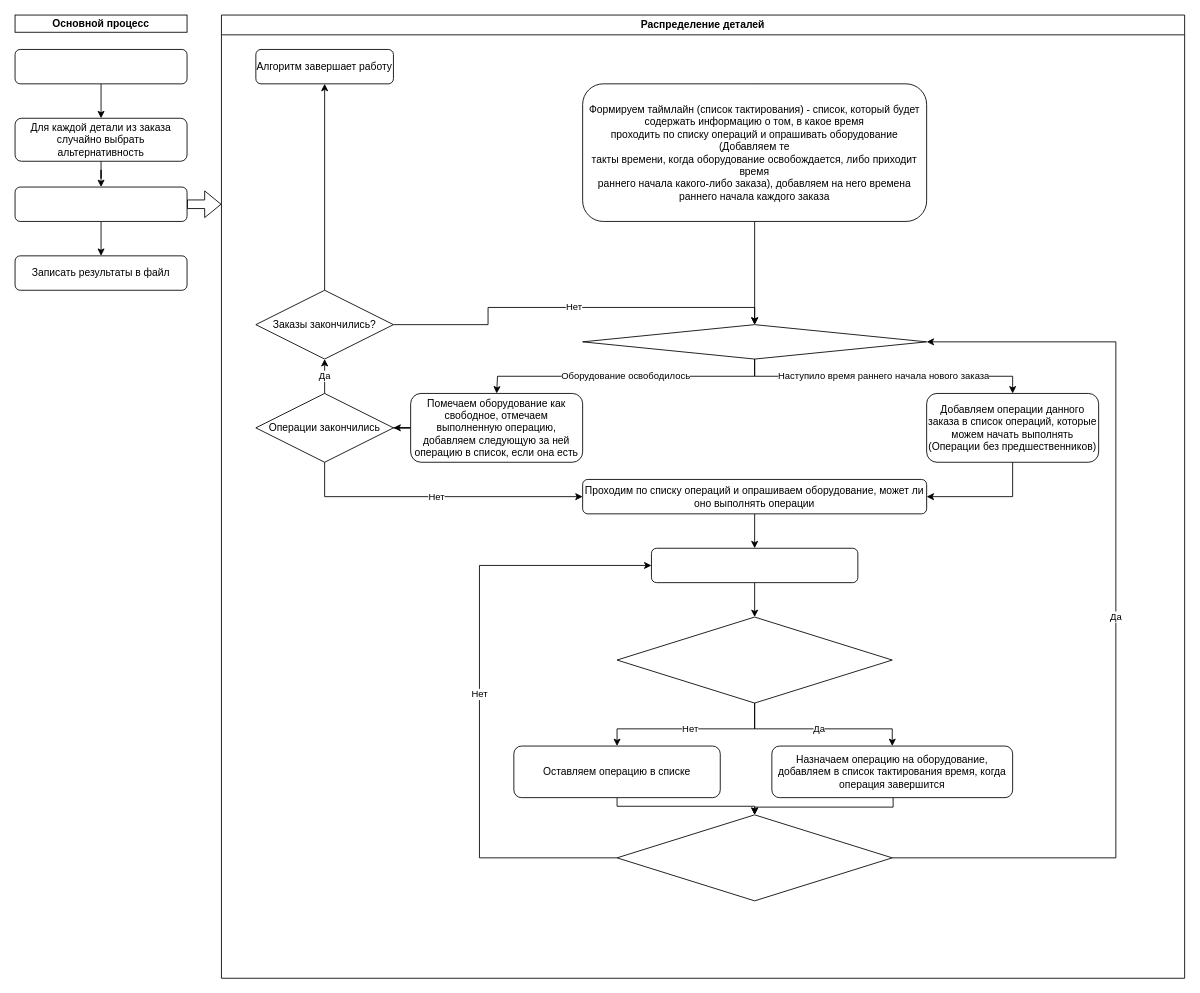
The diagram is 1200 pixels wide and 993 high, and some of its shapes have lost their labels. The centre of each missing label's shape, as x and y in pixels:
"Все операции опрошены?" goes at pixel 754 857.
"Выбираем операцию из списка (жадным образом)" goes at pixel 754 565.
"Операция может быть выполнена на каком либо оборудовании в текущий момент?" goes at pixel 754 659.
"Переходим к следующему такту времени" goes at pixel 754 341.
"Распределить детали по расписанию" goes at pixel 100 203.
"Считать входные данные и записать в структуру данных" goes at pixel 100 66.
